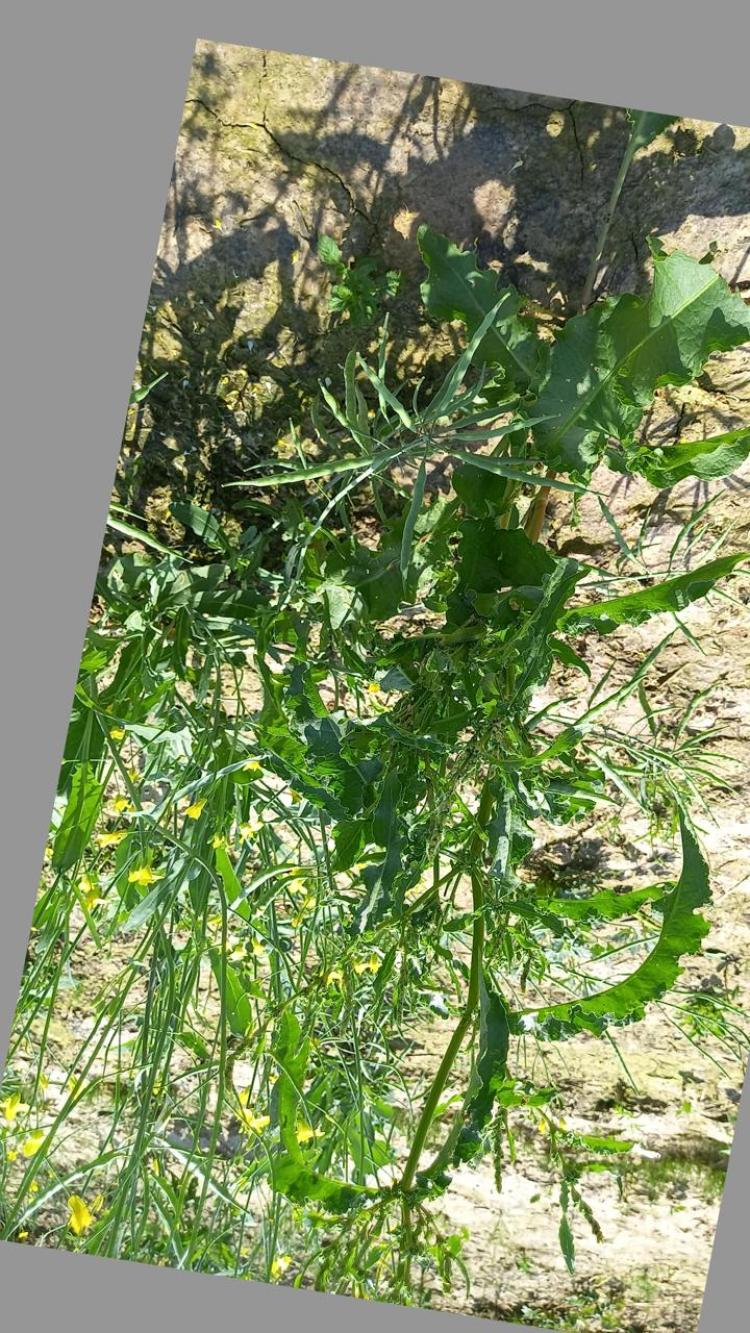zhavel: (355, 183, 734, 1212)
